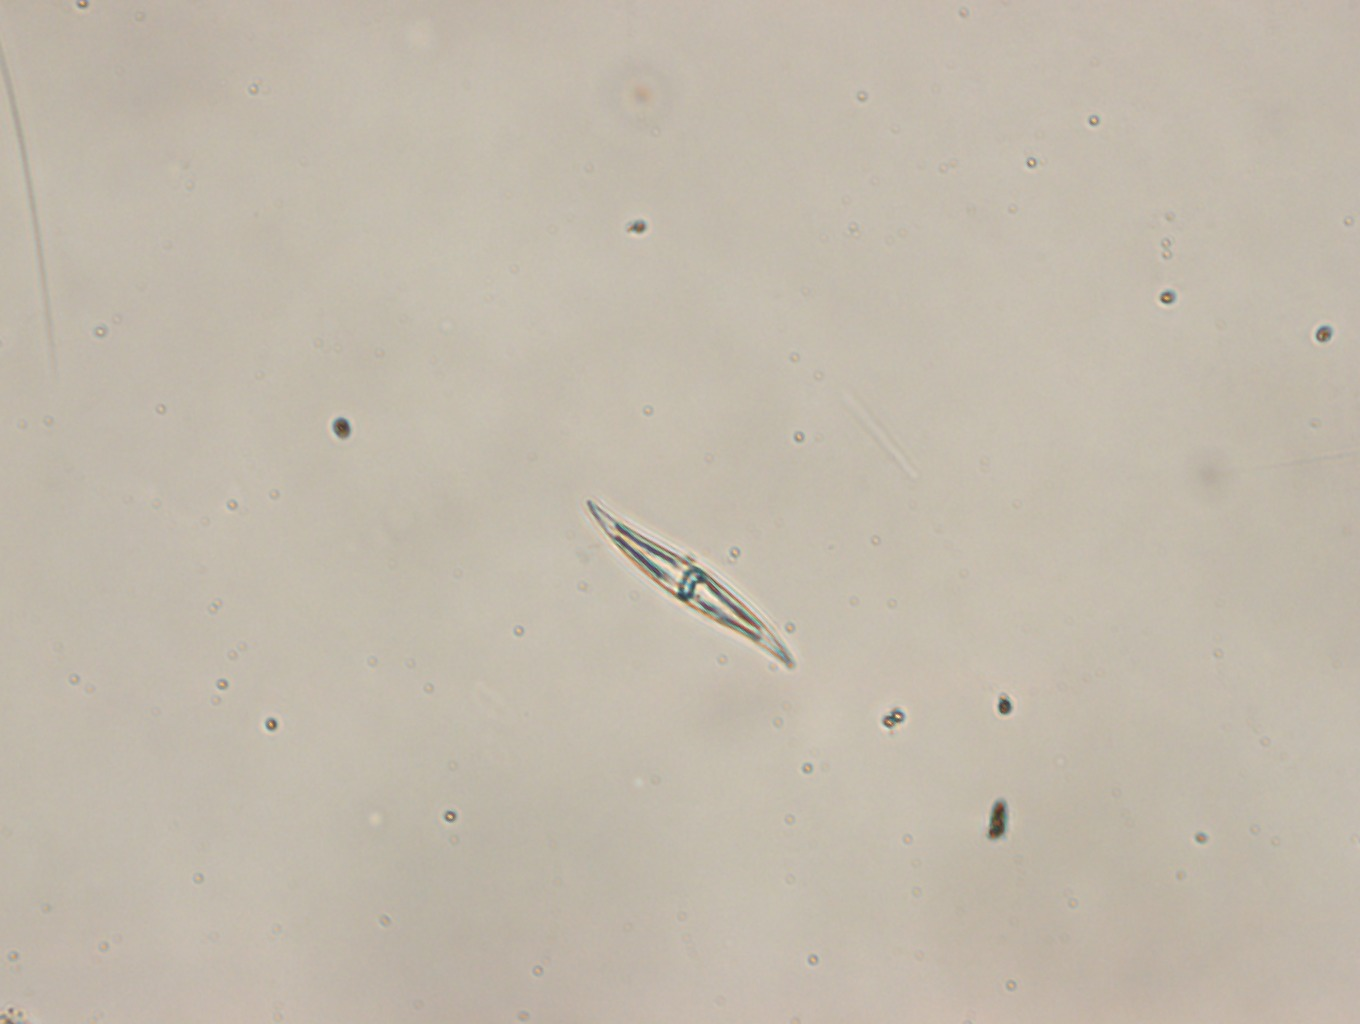pleurosigma pelagicum: (583, 497, 797, 670)
